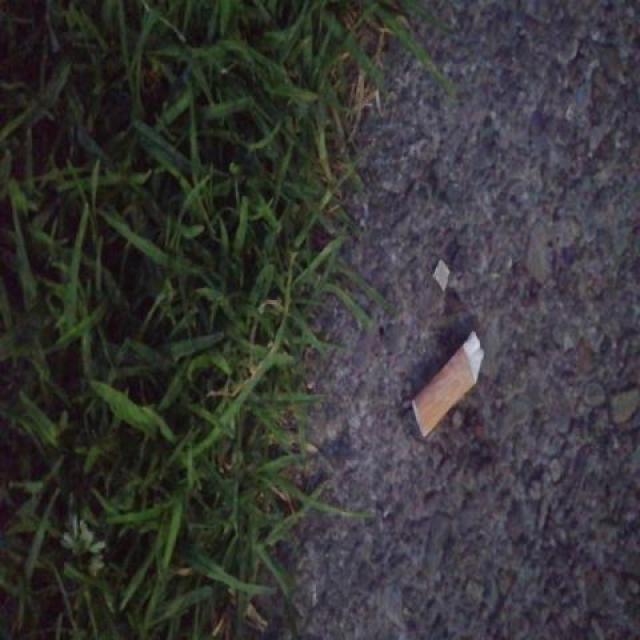non-organic waste: (406, 327, 489, 444)
